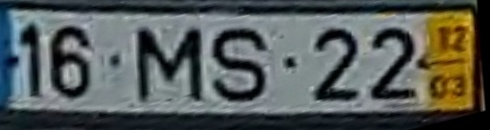1: (15, 21, 45, 101)
2: (310, 25, 363, 104), (366, 24, 419, 101)
6: (48, 22, 95, 102)
M: (132, 24, 206, 107)
S: (210, 24, 271, 104)
